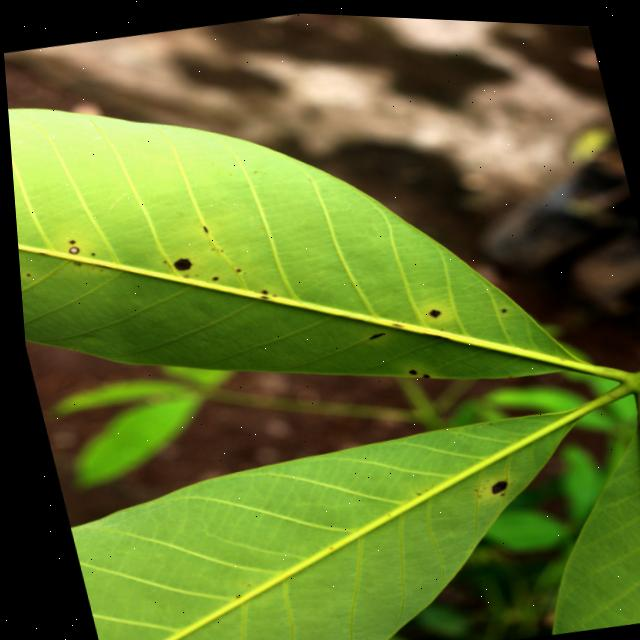Colletotrichum: (168, 253, 189, 269), (482, 473, 501, 489), (423, 304, 436, 312), (64, 244, 75, 253), (402, 364, 412, 370)
